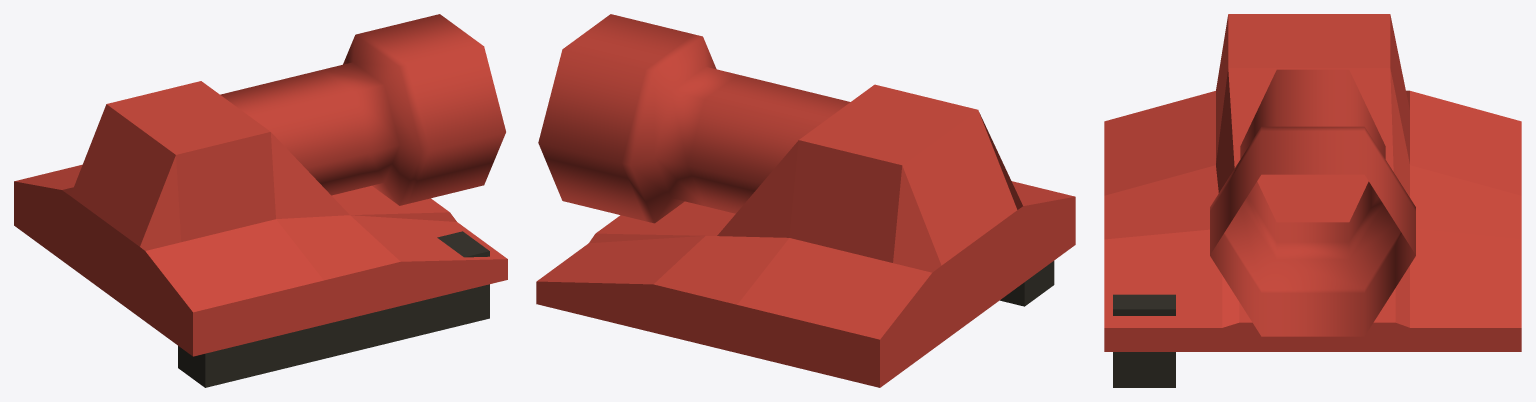
Rendered from tank geometry.gltf.
The picture shows the model from 3 angles, left to right: view 1: azimuth 30°, elevation 25°; view 2: azimuth 150°, elevation 25°; view 3: azimuth 270°, elevation 25°; orthographic projection. The views are drawn at different scales.
Parts seen in each view (by area): view 1: Body, Gun, Chains; view 2: Body, Gun, Chains; view 3: Body, Gun, Chains.
Boxes of the visible parts, box(x1,y1,x2,y2) form: Body: box(14, 81, 507, 356); Gun: box(220, 14, 505, 205); Chains: box(178, 231, 489, 387); Body: box(536, 84, 1075, 387); Gun: box(538, 14, 850, 223); Chains: box(1000, 261, 1054, 306); Body: box(1104, 14, 1521, 351); Gun: box(1210, 69, 1415, 336); Chains: box(1113, 294, 1175, 387).
Size of the model in its own units: 4.97 by 2.8 by 4.3.
